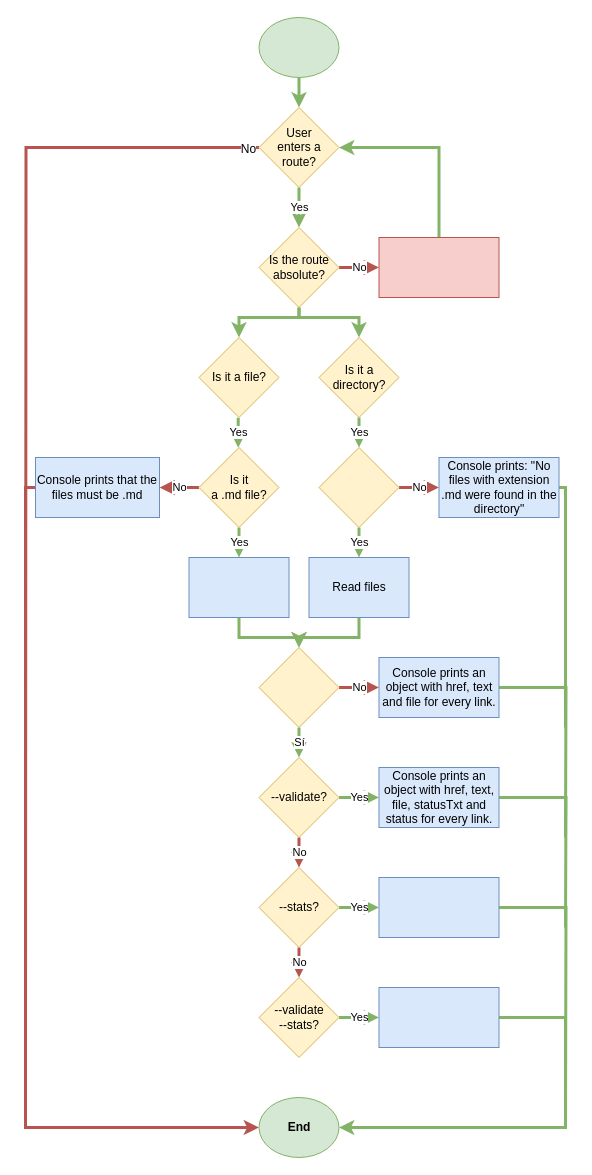
This 592x1175 diagram has some shape labels left out. Each missing label, with the centre of its shape:
Console prints total and unique links: point (438, 907)
Console prints total, unique and broken links: point (438, 1017)
Does it contain .md?: point (358, 487)
Options?: point (298, 687)
Read file: point (238, 587)
Start: point (298, 47)
Turn it to absolute: point (438, 267)
